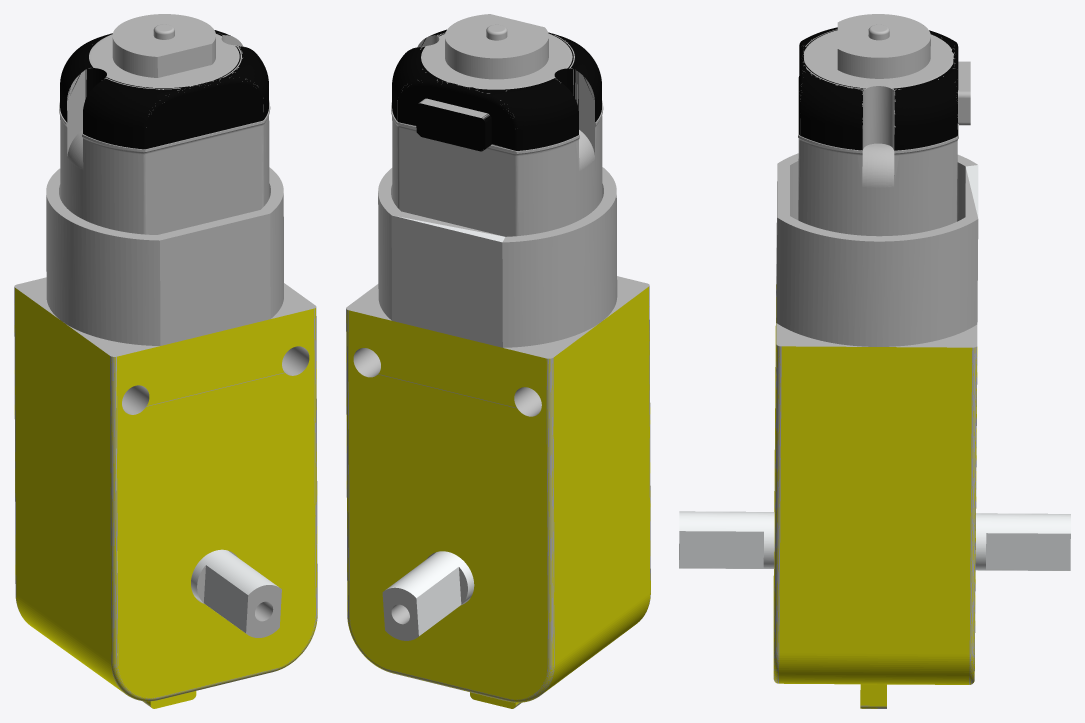
The model's file is motor dc.fbx.
3 renders of one model, left to right at view 1: azimuth 30°, elevation 25°; view 2: azimuth 150°, elevation 25°; view 3: azimuth 270°, elevation 25°, orthographic.
Parts seen in each view (by area): view 1: imagetostl_mesh.001; view 2: imagetostl_mesh.001; view 3: imagetostl_mesh.001.
Boxes of the visible parts, box(x1,y1,x2,y2) form: imagetostl_mesh.001: box(14, 14, 317, 708); imagetostl_mesh.001: box(346, 14, 650, 708); imagetostl_mesh.001: box(679, 14, 1070, 708).
Bounding box in the file's own units: 113 × 350 × 185.
